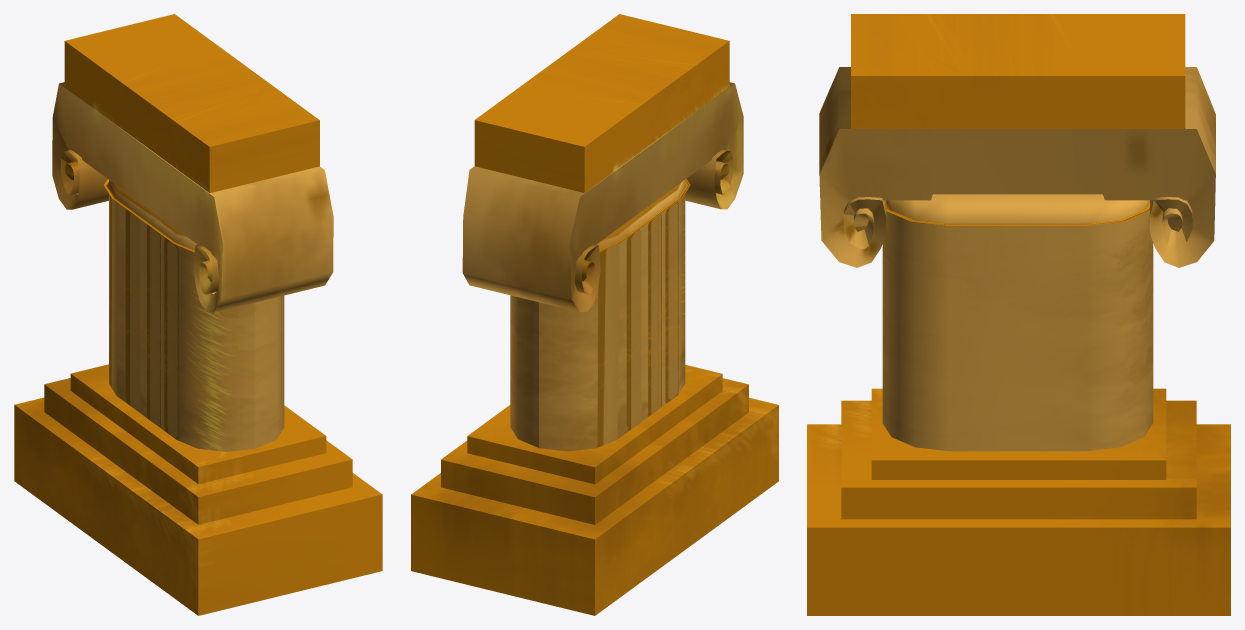
File: minipillargold.fbx
The picture shows the model from 3 angles, left to right: view 1: azimuth 30°, elevation 25°; view 2: azimuth 150°, elevation 25°; view 3: azimuth 270°, elevation 25°; orthographic projection. The views are drawn at different scales.
Visible parts, largest first — view 1: frontpillar1; view 2: frontpillar1; view 3: frontpillar1.
Part boxes in pixels (x1,y1,x2,y2): frontpillar1: (14,14,382,615); frontpillar1: (411,14,778,615); frontpillar1: (807,14,1230,615).
Size of the model in its own units: 89.75 by 208 by 155.
Materials: 1 (1 with a texture image).
